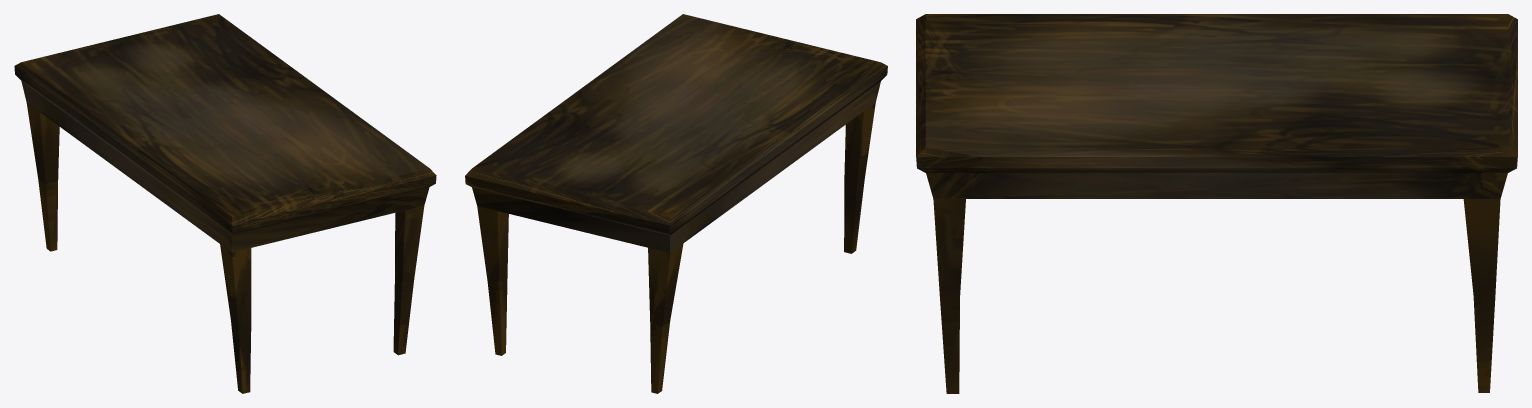
File: Sohvapöytä.fbx
The picture shows the model from 3 angles, left to right: view 1: azimuth 30°, elevation 25°; view 2: azimuth 150°, elevation 25°; view 3: azimuth 270°, elevation 25°; orthographic projection. The views are drawn at different scales.
Visible parts, largest first — view 1: Cube; view 2: Cube; view 3: Cube.
Part boxes in pixels (box(x1,y1,x2,y2)): Cube: box(14, 14, 436, 393); Cube: box(465, 14, 887, 393); Cube: box(916, 14, 1517, 393).
Bounding box in the file's own units: 86.02 × 75.22 × 159.
